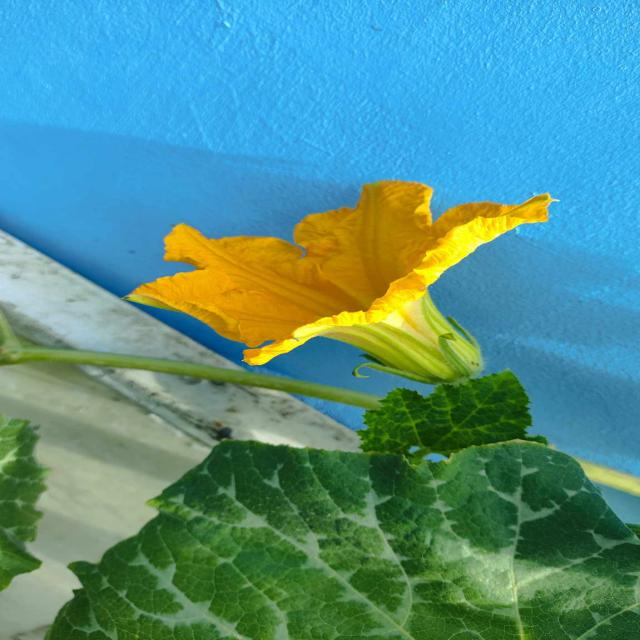flower: (115, 179, 569, 387)
